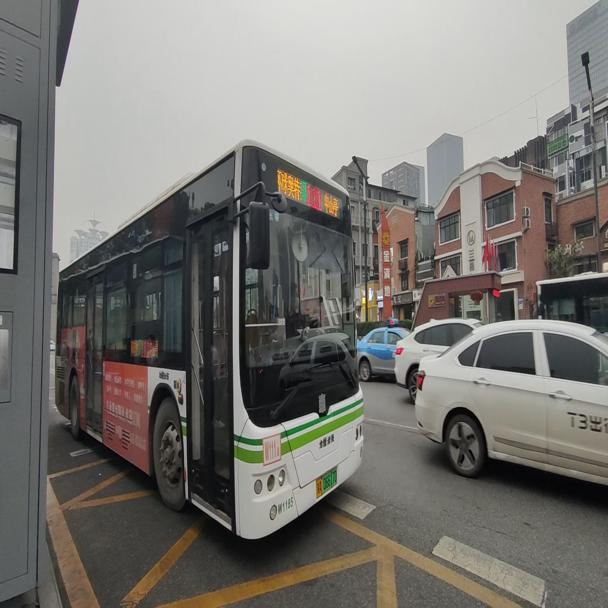bus: (53, 139, 365, 544)
screen: (306, 180, 324, 209)
